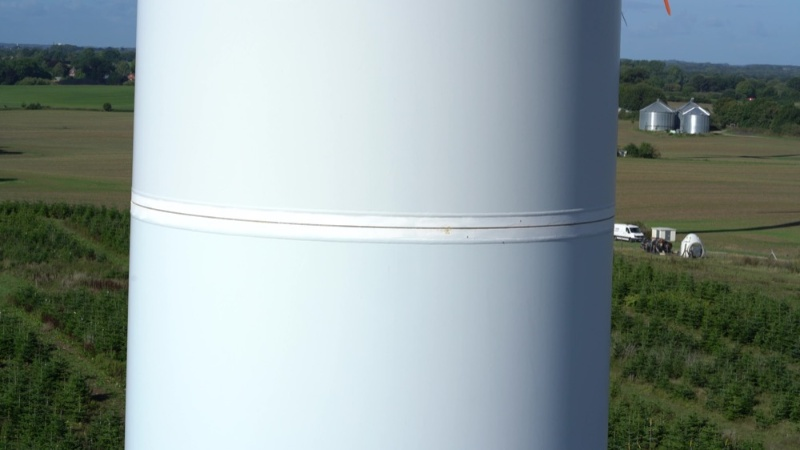weldseam: (128, 179, 615, 220), (128, 212, 614, 247)
